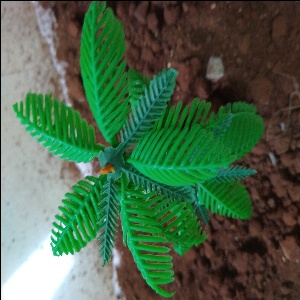plant: (28, 50, 232, 269)
